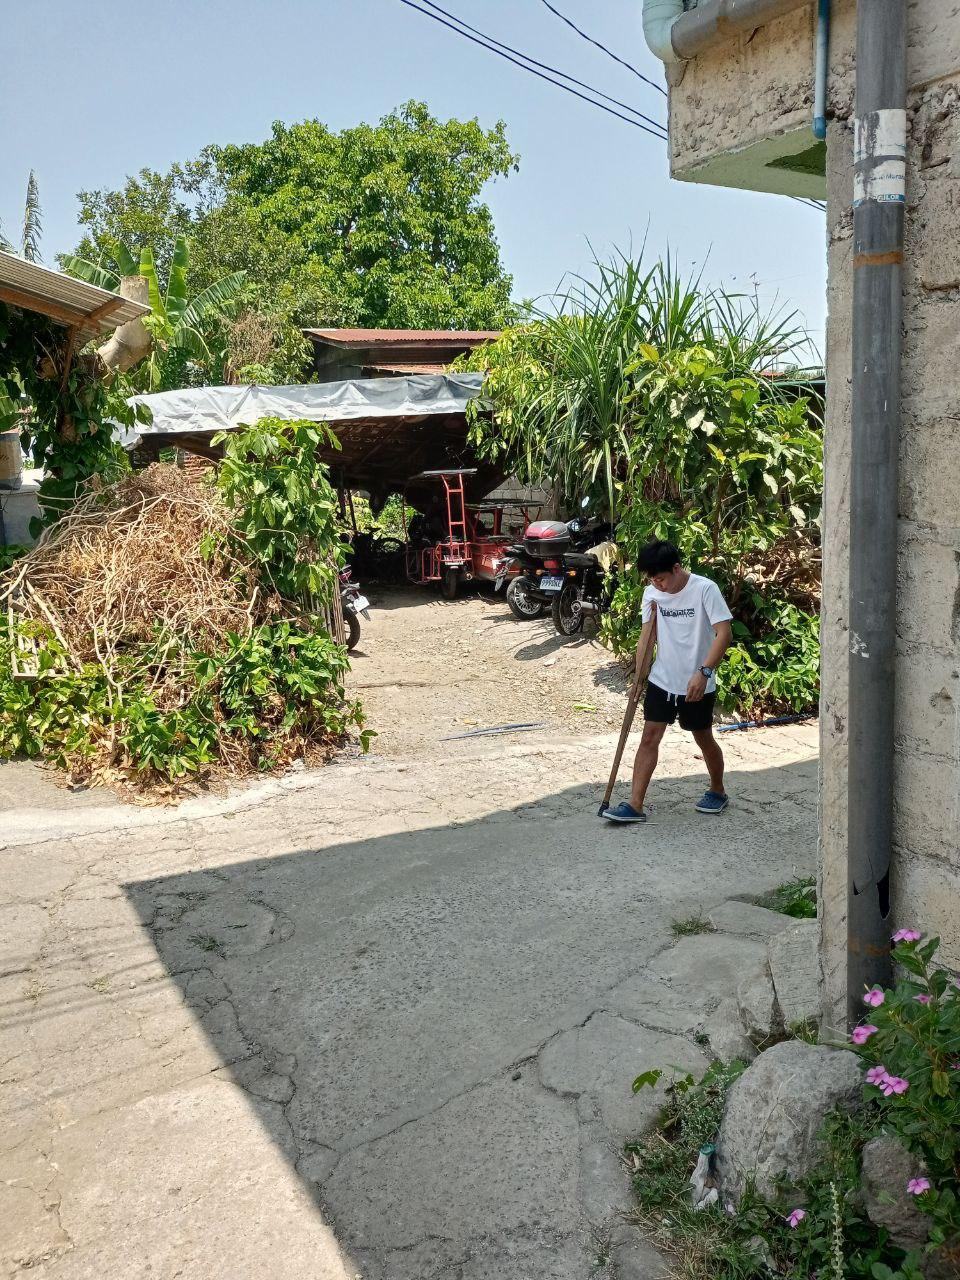crutches: (599, 540, 735, 823)
